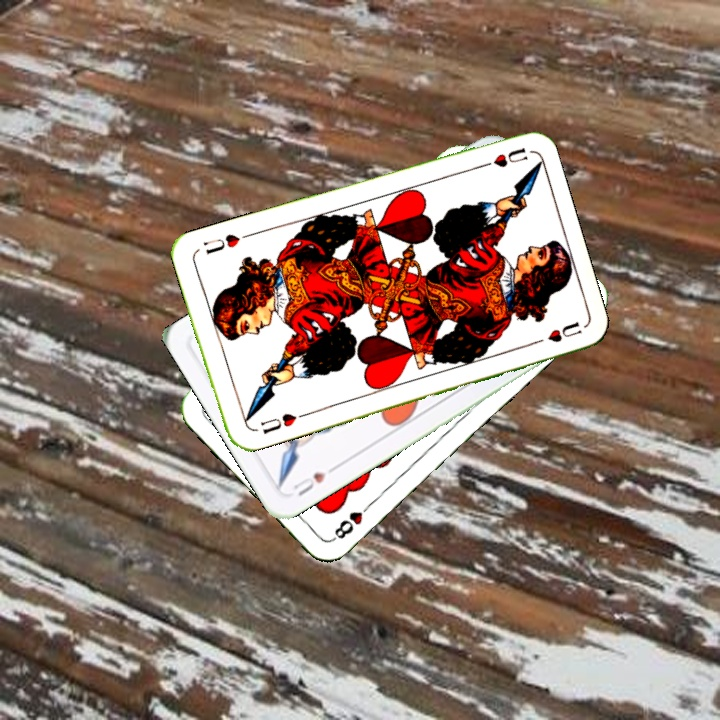H8: (328, 498, 375, 544)
HU: (473, 143, 530, 172), (288, 468, 329, 499), (256, 409, 299, 437)
